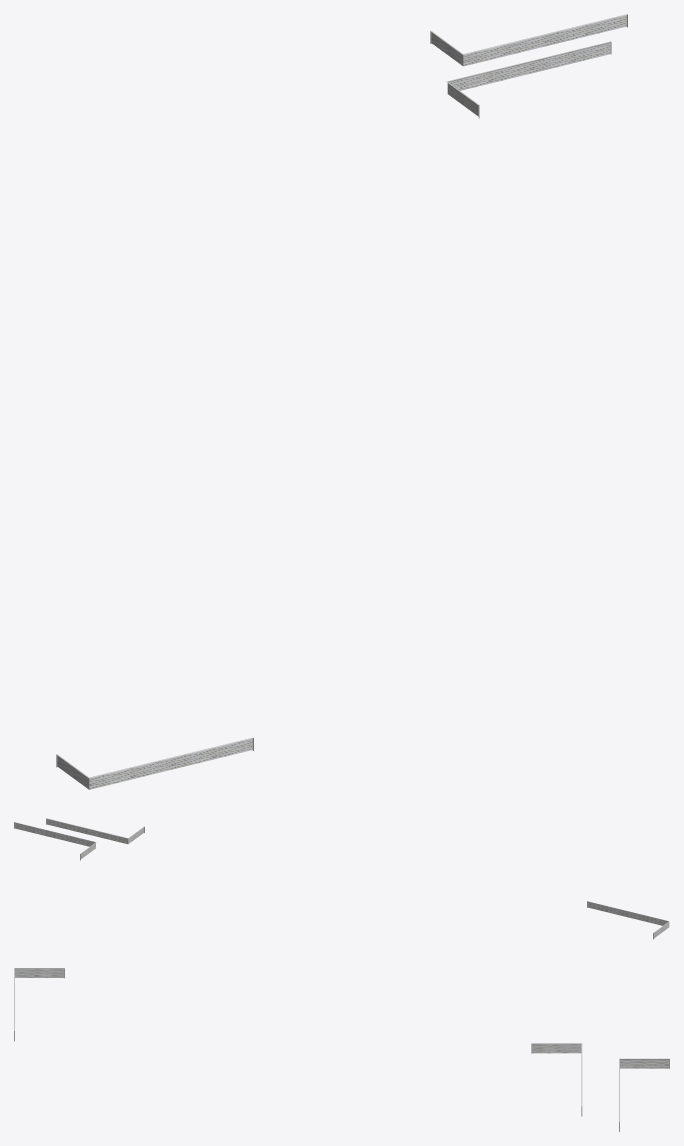
The model's file is BP_Marble_Winter_Frost.glb.
The picture shows the model from 3 angles, top to bottom: view 1: azimuth 30°, elevation 25°; view 2: azimuth 150°, elevation 25°; view 3: azimuth 270°, elevation 25°; orthographic projection. The views are drawn at different scales.
Visible parts, largest first — view 1: Marble_Winter_Frost.001; view 2: Marble_Winter_Frost.001; view 3: Marble_Winter_Frost.001.
Boxes of the visible parts, bbox=[...] form: Marble_Winter_Frost.001: bbox=[56, 14, 627, 789]; Marble_Winter_Frost.001: bbox=[14, 818, 669, 939]; Marble_Winter_Frost.001: bbox=[14, 968, 669, 1131].
Size of the model in its own units: 16.19 by 4.49 by 12.69.
Materials: 1 (1 with a texture image).
